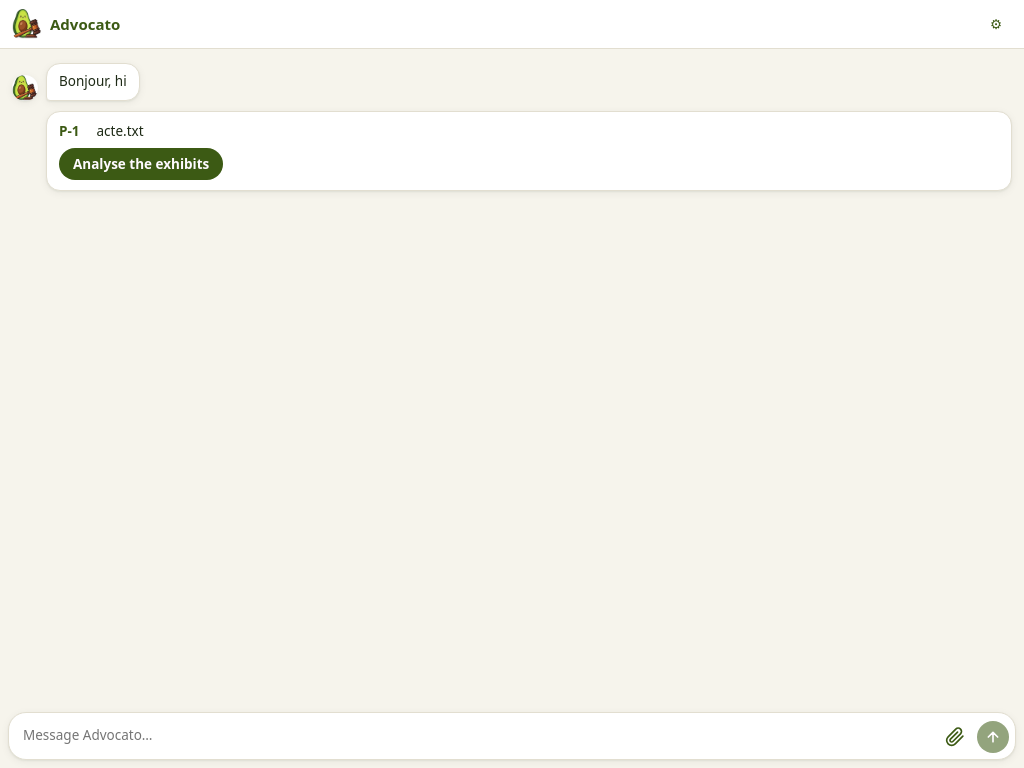
Scenario: US-04 fact extraction (UI) › shows the error and stays on upload when the model fails
This screenshot has width=1024, height=768.
Click the button "Analyse the exhibits" at (141, 164), box [59,148,223,180]
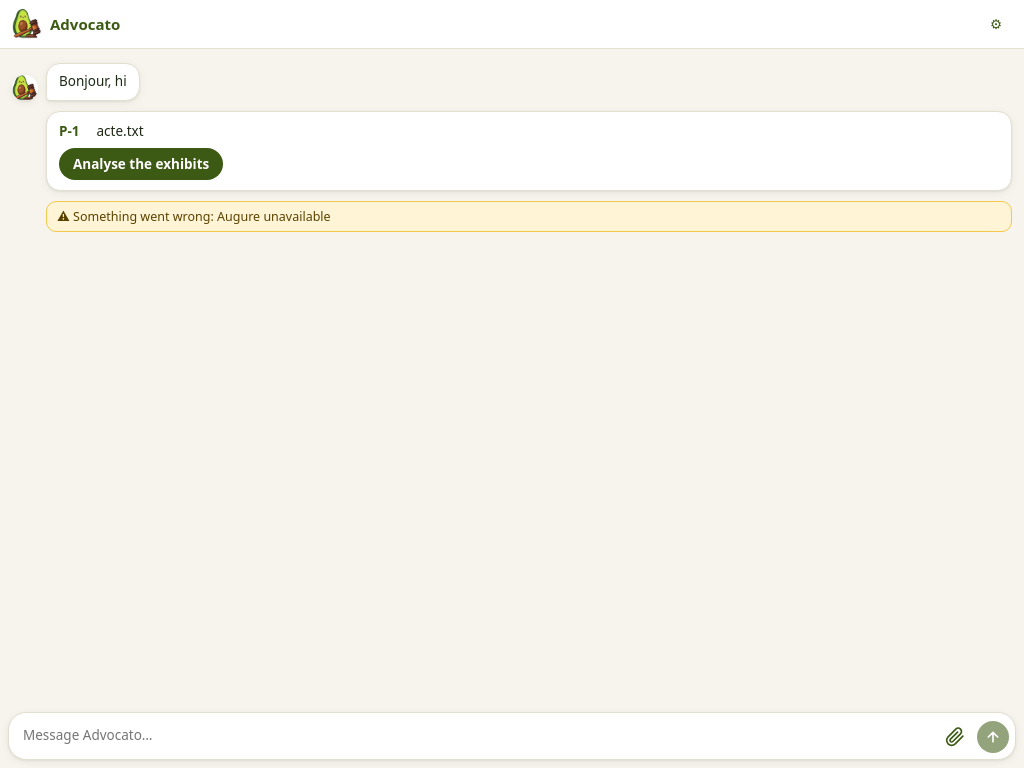
expect the message shows "Augure unavailable": met, box [73,208,331,225]
